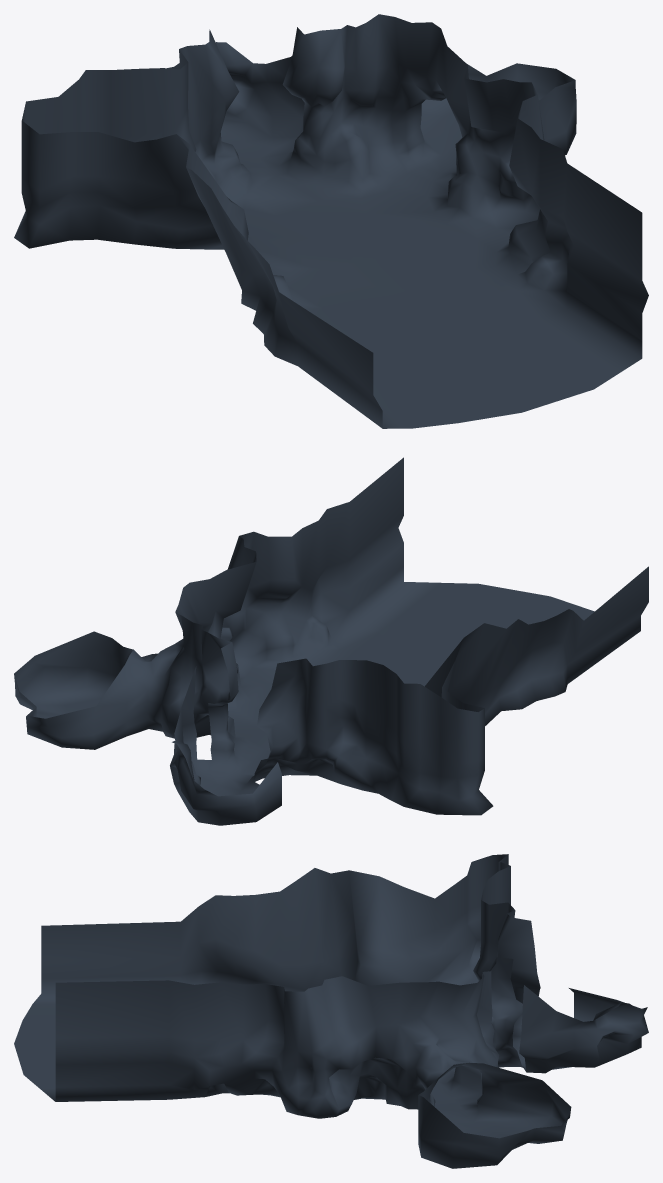
The model's file is ts_yxdm001.FBX.
3 views of the same model, one above another, from view 1: azimuth 30°, elevation 25°; view 2: azimuth 150°, elevation 25°; view 3: azimuth 270°, elevation 25° (orthographic). The views are drawn at different scales.
Visible parts, largest first — view 1: ts_yxdm001; view 2: ts_yxdm001; view 3: ts_yxdm001.
Part boxes in pixels (<box>): ts_yxdm001: <box>14,14,648,428</box>; ts_yxdm001: <box>14,457,648,825</box>; ts_yxdm001: <box>14,854,648,1168</box>.
Bounding box in the file's own units: 45.6 × 12.75 × 56.28.
